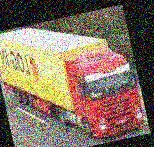truck: (0, 8, 147, 147)
